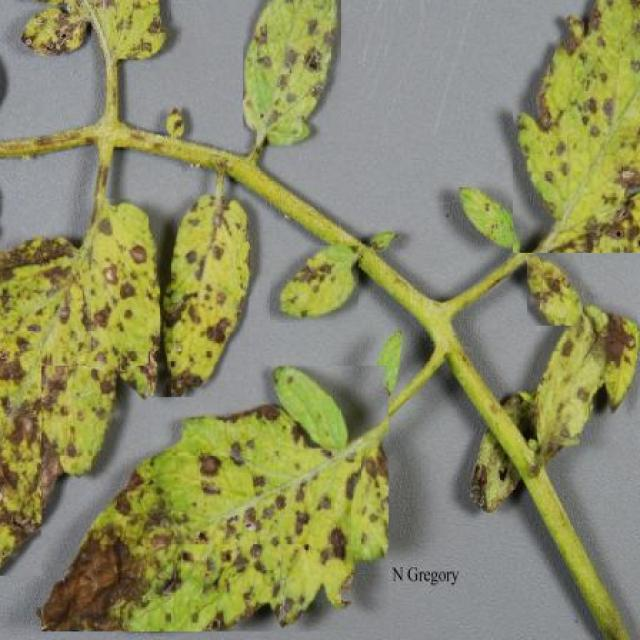Septoria: (41, 366, 388, 631), (0, 198, 163, 576), (513, 0, 640, 253), (148, 195, 248, 396), (534, 294, 637, 474), (242, 0, 340, 149), (18, 0, 172, 70), (271, 246, 359, 323), (527, 254, 583, 326)
